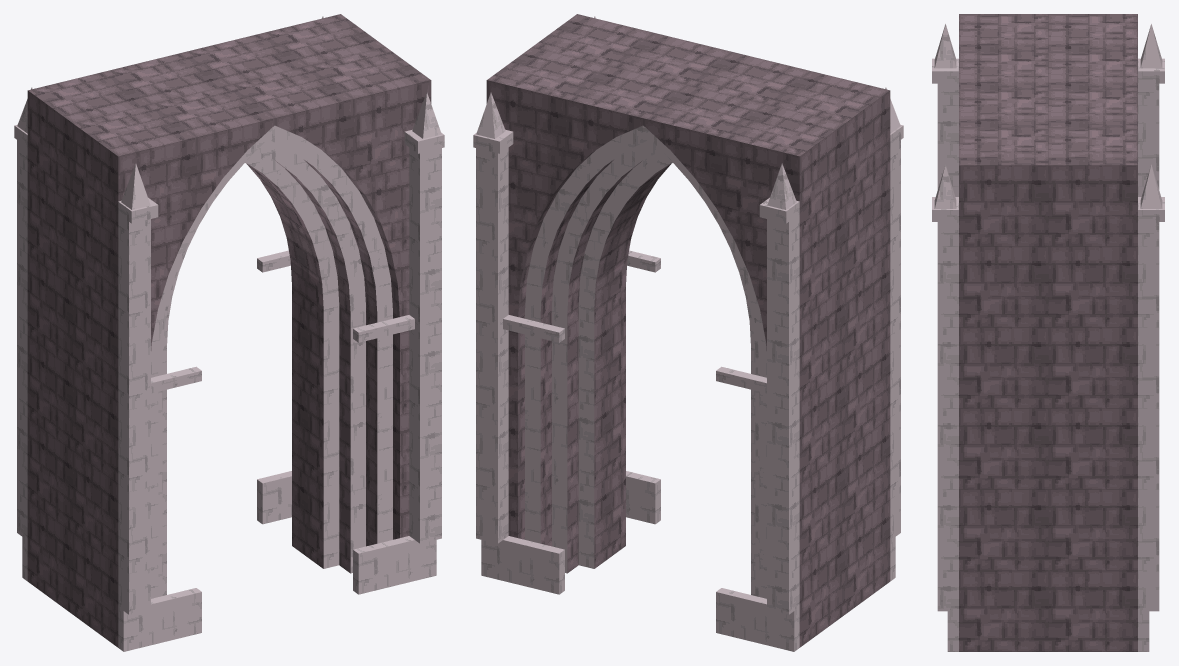
File: door_frame_boss_c.glb
3 renders of one model, left to right at view 1: azimuth 30°, elevation 25°; view 2: azimuth 150°, elevation 25°; view 3: azimuth 270°, elevation 25°, orthographic.
Parts seen in each view (by area): view 1: portal_front, portal_back; view 2: portal_back, portal_front; view 3: portal_back, portal_front.
Part boxes in pixels (left/top/right/bottom): portal_front: left=73, top=47, right=444, bottom=651; portal_back: left=14, top=14, right=385, bottom=614; portal_back: left=473, top=47, right=844, bottom=651; portal_front: left=532, top=14, right=903, bottom=614; portal_back: left=1048, top=14, right=1164, bottom=651; portal_front: left=932, top=14, right=1048, bottom=651.
Size of the model in its own units: 4 by 6 by 2.6.
1 material, 1 textured.
